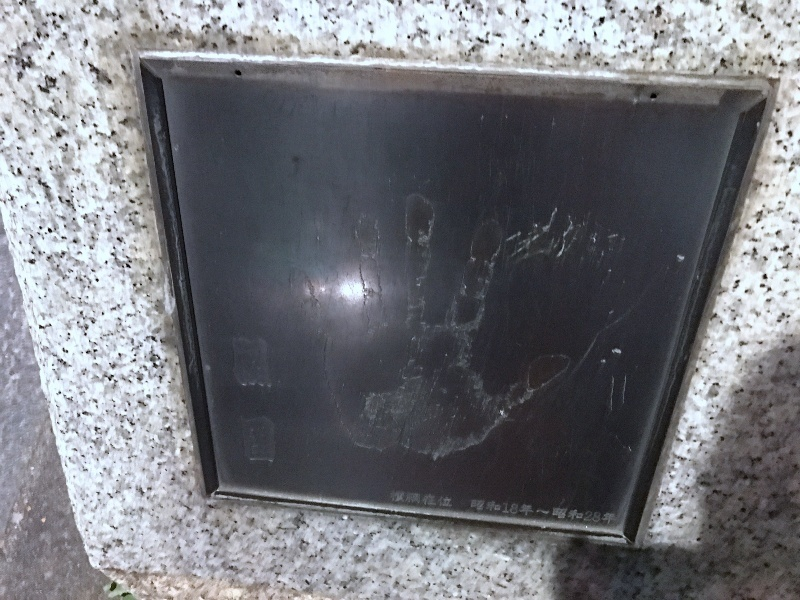text: (241, 334, 256, 468), (257, 334, 272, 468), (230, 334, 240, 468), (273, 334, 280, 468), (481, 499, 496, 529), (497, 499, 512, 529), (513, 499, 528, 529), (529, 499, 544, 529), (545, 499, 560, 529), (561, 499, 576, 529), (577, 499, 592, 529), (593, 499, 608, 529), (470, 499, 480, 529), (401, 490, 416, 509), (417, 490, 432, 509), (433, 490, 448, 509), (609, 499, 616, 529), (390, 490, 400, 509), (449, 490, 453, 509)
